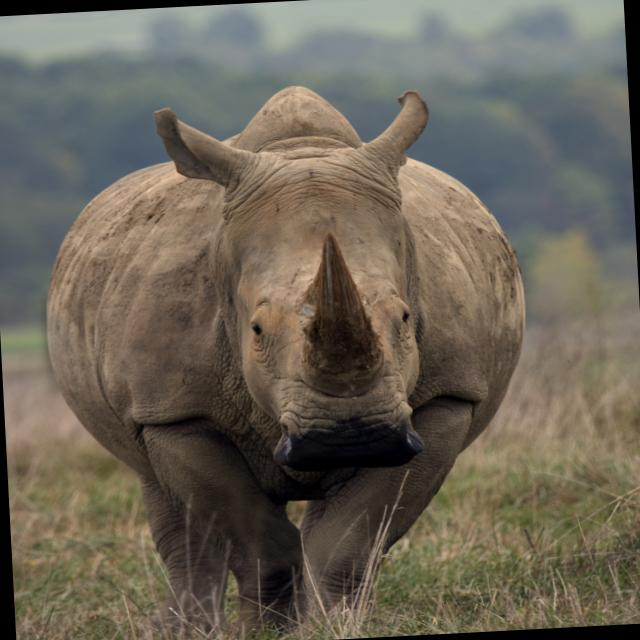rhino: (15, 11, 602, 544)
